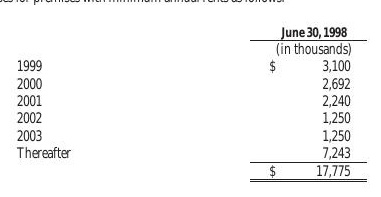table: (0, 0, 381, 197)
